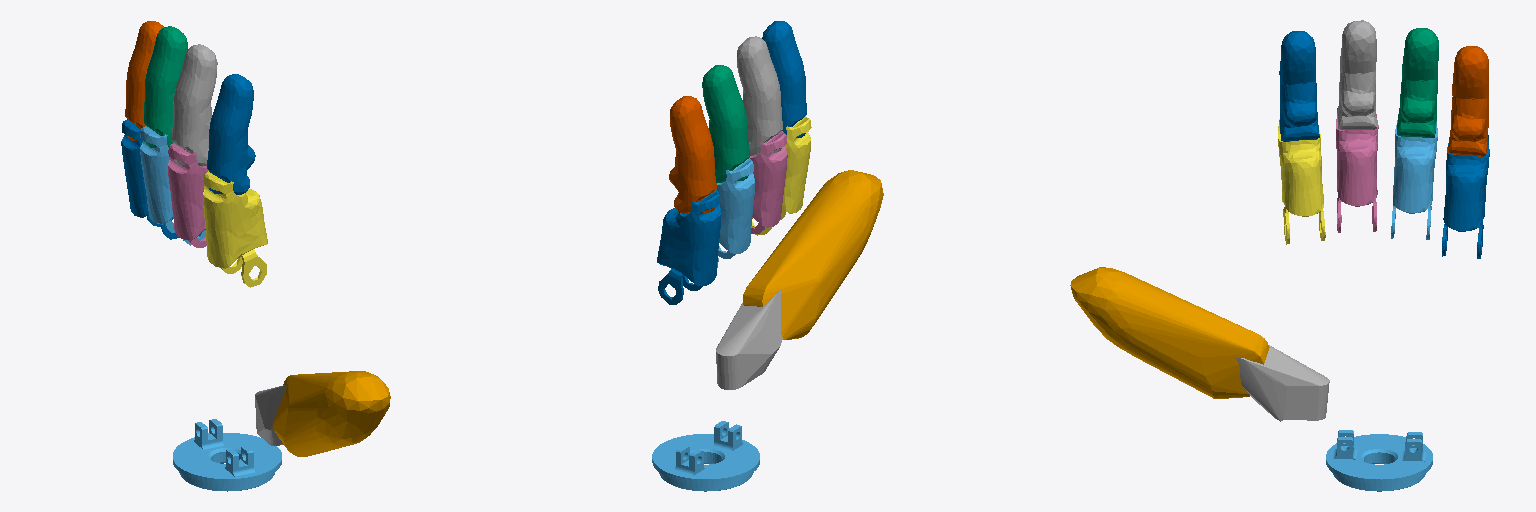
The robot description file, URDF, robot "ability_hand":
<robot name="ability_hand">
  <link name="base_link"/>
  <joint name="base_joint" type="fixed">
    <parent link="base_link"/>
    <child link="base"/>
    <origin xyz="0 0 0" rpy="0 0 -1.57079"/>
  </joint>
  <link name="base">
    <visual name="wrist_mesh">
      <origin rpy="0 0 0" xyz="0 0 0"/>
      <geometry>
        <mesh filename="meshes/visual/wristmesh.obj"/>
      </geometry>
    </visual>
    <collision>
      <origin xyz="0 0 0" rpy="0 0 0"/>
      <geometry>
        <mesh filename="meshes/collision/wristmesh_C.obj"/>
      </geometry>
    </collision>
    <inertial>  <!-- the mass and inertia here are NOT correct -->
      <mass value="0.200"/>
      <inertia ixx="978.26e-6" ixy="87.34e-6" ixz="322.99e-6" iyy="1244.78e-6" iyz="244.74e-6" izz="456.22e-6"/>
      <origin xyz="22.41911e-3 -0.15798201e-3 -0.01319866e-3" rpy="0 0 0"/>
    </inertial>
  </link>
  <joint name="wrist2thumb" type="fixed">
    <parent link="base"/>
    <child link="thumb_base"/>
    <origin xyz="24.0476665e-3 3.78124745e-3 32.32964923e-3" rpy="3.14148426 0.08848813 3.14036612"/>
  </joint>
  <link name="thumb_base">
    <inertial>
      <mass value="0.400"/>
      <inertia ixx="978.26e-6" ixy="87.34e-6" ixz="322.99e-6" iyy="1244.78e-6" iyz="244.74e-6" izz="456.22e-6"/>
      <origin xyz="22.41911e-3 -0.15798201e-3 -0.01319866e-3" rpy="0 0 0"/>
    </inertial>
    <visual name="palm_mesh">
      <origin rpy="0 0 0" xyz="0 0 0"/>
      <geometry>
        <mesh filename="meshes/visual/FB_palm_ref.obj"/>
      </geometry>
    </visual>
    <collision>                                  <!-- thumb_base -->
      <origin xyz="0 0 0" rpy="0 0 0"/>
      <geometry>
        <mesh filename="meshes/collision/FB_palm_ref.obj"/>
      </geometry>
    </collision>
  </link>
  <link name="index_L1">
    <inertial>
      <mass value="0.00635888"/>
      <inertia ixx="0.29766e-4" ixy="-0.06447133e-4" ixz="-0.00423315e-4" iyy="3.6947967e-4" iyz="0.00083028e-4" izz="3.8176336e-4"/>
      <origin xyz="22.41911e-3 -0.15798201e-3 -0.01319866e-3" rpy="0 0 0"/>
    </inertial>
    <visual name="index_mesh_1">
      <origin xyz="38.472723e-3 3.257695e-3 0.000000" rpy="0 0 0.084474"/>
      <geometry>
        <mesh filename="meshes/visual/idx-F1.obj"/>
      </geometry>
    </visual>
    <collision>                                  <!-- index_L1 -->
      <origin xyz="0.036 -0.00175 0" rpy="0 0 0"/>
      <geometry>
        <sphere radius="0.0085"/>
      </geometry>
    </collision>
    <collision>
      <origin xyz="0.019 -0.0045 0" rpy="0 0 0.0845"/>
      <geometry>
        <box size="0.028 0.012 0.016"/>
      </geometry>
    </collision>
    <collision>
      <origin xyz="-0.001 0 0.007" rpy="0 0 0.0845"/>
      <geometry>
        <box size="0.012 0.012 0.002"/>
      </geometry>
    </collision>
    <collision>
      <origin xyz="-0.001 0 -0.007" rpy="0 0 0.0845"/>
      <geometry>
        <box size="0.012 0.012 0.002"/>
      </geometry>
    </collision>
  </link>
  <link name="index_L2">
    <inertial>
      <mass value="0.00645"/>
      <inertia ixx="0.82671e-4" ixy="-1.08876e-4" ixz="-0.00037e-4" iyy="1.98028e-4" iyz="0.00081e-4" izz="2.64638e-4"/>
      <origin rpy="0 0 0" xyz="13.36818e-3 -8.75392e-3 -0.02886e-3"/>
    </inertial>
    <visual name="index_mesh_2">
      <origin rpy="0 0 0" xyz="9.1241e-3 0 0"/>
      <geometry>
        <mesh filename="meshes/visual/idx-F2.obj"/>
      </geometry>
    </visual>
    <collision>                            <!-- index_L2 -->
      <origin xyz="0 0 0" rpy="0 0 0"/>
      <geometry>
        <mesh filename="meshes/collision/idx-F2_C.obj"/>
      </geometry>
    </collision>
    <collision>
      <origin xyz="0.03 -0.016 0" rpy="0 0 0"/>
      <geometry>
        <sphere radius="0.007"/>
      </geometry>
    </collision>
  </link>
  <joint name="index_q1" type="revolute">
    <parent link="thumb_base"/>
    <child link="index_L1"/>
    <origin xyz="-9.49e-3 -13.04e-3 -62.95e-3" rpy="-1.982050 1.284473 -2.090591"/>
    <axis xyz="0 0 1"/>
    <limit lower="0" upper="2.0943951" effort="6.0" velocity="8.0677777442"/>    <!-- angles in rad, efforts in N-m, velocity in rad/s -->
    <dynamics damping="0.001" friction="0.001"/>  <!-- Friction coefficient is not from quantitative measurement -->
  </joint>
  <joint name="index_q2" type="revolute">
    <parent link="index_L1"/>
    <child link="index_L2"/>
    <origin xyz="38.472723e-3 3.257695e-3 0.000000e-3" rpy="0 0 0.084474"/>
    <axis xyz="0 0 1"/>
    <limit lower="0.0" upper="2.6586" effort="6.0" velocity="8.0677777442"/>    <!-- angles in rad, efforts in N-m, velocity in rad/s -->
    <dynamics damping="0.001" friction="0.001"/>  <!-- Friction coefficient is not from quantitative measurement -->
    <mimic joint="index_q1" multiplier="1.05851325" offset="0.72349796"/>
  </joint>
  <link name="index_anchor"/>
  <joint name="idx_anchor" type="fixed">
    <parent link="index_L2"/>
    <child link="index_anchor"/>
    <origin rpy="0 0 0" xyz="31.5541e-3  -10.44e-3 0.14e-3"/>
  </joint>
  <link name="middle_L1">
    <inertial>
      <mass value="0.00635888"/>
      <inertia ixx="0.29766e-4" ixy="-0.06447133e-4" ixz="-0.00423315e-4" iyy="3.6947967e-4" iyz="0.00083028e-4" izz="3.8176336e-4"/>
      <origin xyz="22.41911e-3 -0.15798201e-3 -0.01319866e-3" rpy="0 0 0"/>
    </inertial>
    <visual name="middle_mesh_1">
      <origin xyz="38.472723e-3 3.257695e-3 0.000000" rpy="0 0 0.084474"/>
      <geometry>
        <mesh filename="meshes/visual/idx-F1.obj"/>
      </geometry>
    </visual>
    <collision>                                  <!-- middle_L1 -->
      <origin xyz="0.036 -0.00175 0" rpy="0 0 0"/>
      <geometry>
        <sphere radius="0.0085"/>
      </geometry>
    </collision>
    <collision>
      <origin xyz="0.019 -0.0045 0" rpy="0 0 0.0845"/>
      <geometry>
        <box size="0.028 0.012 0.016"/>
      </geometry>
    </collision>
    <collision>
      <origin xyz="0.018 0.006 0" rpy="0 0 0.0845"/>
      <geometry>
        <box size="0.02 0.01 0.016"/>
      </geometry>
    </collision>
    <collision>
      <origin xyz="-0.001 0 0.007" rpy="0 0 0.0845"/>
      <geometry>
        <box size="0.012 0.012 0.002"/>
      </geometry>
    </collision>
    <collision>
      <origin xyz="-0.001 0 -0.007" rpy="0 0 0.0845"/>
      <geometry>
        <box size="0.012 0.012 0.002"/>
      </geometry>
    </collision>
  </link>
  <link name="middle_L2">
    <inertial>
      <mass value="0.00645"/>
      <inertia ixx="0.82671e-4" ixy="-1.08876e-4" ixz="-0.00037e-4" iyy="1.98028e-4" iyz="0.00081e-4" izz="2.64638e-4"/>
      <origin rpy="0 0 0" xyz="13.36818e-3 -8.75392e-3 -0.02886e-3"/>
    </inertial>
    <visual name="middle_mesh_2">
      <origin rpy="0 0 0" xyz="9.1241e-3 0 0"/>
      <geometry>
        <mesh filename="meshes/visual/idx-F2.obj"/>
      </geometry>
    </visual>
    <collision>                            <!-- middle_L2 -->
      <origin xyz="0 0 0" rpy="0 0 0"/>
      <geometry>
        <mesh filename="meshes/collision/idx-F2_C.obj"/>
      </geometry>
    </collision>
    <collision>
      <origin xyz="0.03 -0.016 0" rpy="0 0 0"/>
      <geometry>
        <sphere radius="0.007"/>
      </geometry>
    </collision>
  </link>
  <joint name="middle_q1" type="revolute">
    <parent link="thumb_base"/>
    <child link="middle_L1"/>
    <origin xyz="9.653191e-3 -15.310271e-3 -67.853949e-3" rpy="-1.860531 1.308458 -1.896217"/>
    <limit lower="0" upper="2.0943951" effort="6.0" velocity="8.0677777442"/>    <!-- angles in rad, efforts in N-m, velocity in rad/s -->
    <dynamics damping="0.001" friction="0.001"/>  <!-- Friction coefficient is not from quantitative measurement -->
    <axis xyz="0 0 1"/>
  </joint>
  <joint name="middle_q2" type="revolute">
    <parent link="middle_L1"/>
    <child link="middle_L2"/>
    <origin xyz="38.472723e-3 3.257695e-3 0.000000" rpy="0 0 0.084474"/>
    <axis xyz="0 0 1"/>
    <limit lower="0.0" upper="2.6586" effort="6.0" velocity="8.0677777442"/>    <!-- angles in rad, efforts in N-m, velocity in rad/s -->
    <dynamics damping="0.001" friction="0.001"/>  <!-- Friction coefficient is not from quantitative measurement -->
    <mimic joint="middle_q1" multiplier="1.05851325" offset="0.72349796"/>
  </joint>
  <link name="middle_anchor"/>
  <joint name="mid_anchor" type="fixed">
    <parent link="middle_L2"/>
    <child link="middle_anchor"/>
    <origin rpy="0 0 0" xyz="31.5541e-3  -10.44e-3 0.14e-3"/>
  </joint>
  <link name="ring_L1">
    <inertial>
      <mass value="0.00635888"/>
      <inertia ixx="0.29766e-4" ixy="-0.06447133e-4" ixz="-0.00423315e-4" iyy="3.6947967e-4" iyz="0.00083028e-4" izz="3.8176336e-4"/>
      <origin xyz="22.41911e-3 -0.15798201e-3 -0.01319866e-3" rpy="0 0 0"/>
    </inertial>
    <visual name="ring_mesh_1">
      <origin xyz="38.472723e-3 3.257695e-3 0.000000" rpy="0 0 0.084474"/>
      <geometry>
        <mesh filename="meshes/visual/idx-F1.obj"/>
      </geometry>
    </visual>
    <collision>                                  <!-- ring_L1 -->
      <origin xyz="0.036 -0.00175 0" rpy="0 0 0"/>
      <geometry>
        <sphere radius="0.0085"/>
      </geometry>
    </collision>
    <collision>
      <origin xyz="0.019 -0.0045 0" rpy="0 0 0.0845"/>
      <geometry>
        <box size="0.028 0.012 0.016"/>
      </geometry>
    </collision>
    <collision>
      <origin xyz="0.018 0.006 0" rpy="0 0 0.0845"/>
      <geometry>
        <box size="0.02 0.01 0.016"/>
      </geometry>
    </collision>
    <collision>
      <origin xyz="-0.001 0 0.007" rpy="0 0 0.0845"/>
      <geometry>
        <box size="0.012 0.012 0.002"/>
      </geometry>
    </collision>
    <collision>
      <origin xyz="-0.001 0 -0.007" rpy="0 0 0.0845"/>
      <geometry>
        <box size="0.012 0.012 0.002"/>
      </geometry>
    </collision>
  </link>
  <link name="ring_L2">
    <inertial>
      <mass value="0.00645"/>
      <inertia ixx="0.82671e-4" ixy="-1.08876e-4" ixz="-0.00037e-4" iyy="1.98028e-4" iyz="0.00081e-4" izz="2.64638e-4"/>
      <origin rpy="0 0 0" xyz="13.36818e-3 -8.75392e-3 -0.02886e-3"/>
    </inertial>
    <visual name="ring_mesh_2">
      <origin rpy="0 0 0" xyz="9.1241e-3 0 0"/>
      <geometry>
        <mesh filename="meshes/visual/idx-F2.obj"/>
      </geometry>
    </visual>
    <collision>                            <!-- ring_L2 -->
      <origin xyz="0 0 0" rpy="0 0 0"/>
      <geometry>
        <mesh filename="meshes/collision/idx-F2_C.obj"/>
      </geometry>
    </collision>
    <collision>
      <origin xyz="0.03 -0.016 0" rpy="0 0 0"/>
      <geometry>
        <sphere radius="0.007"/>
      </geometry>
    </collision>
  </link>
  <joint name="ring_q1" type="revolute">
    <parent link="thumb_base"/>
    <child link="ring_L1"/>
    <origin xyz="29.954260e-3 -14.212492e-3 -67.286105e-3" rpy="-1.716598 1.321452 -1.675862"/>
    <limit lower="0" upper="2.0943951" effort="6.0" velocity="8.0677777442"/>    <!-- angles in rad, efforts in N-m, velocity in rad/s -->
    <dynamics damping="0.001" friction="0.001"/>  <!-- Friction coefficient is not from quantitative measurement -->
    <axis xyz="0 0 1"/>
  </joint>
  <joint name="ring_q2" type="revolute">
    <parent link="ring_L1"/>
    <child link="ring_L2"/>
    <origin xyz="38.472723e-3 3.257695e-3 0.000000" rpy="0 0 0.084474"/>
    <axis xyz="0 0 1"/>
    <limit lower="0.0" upper="2.6586" effort="6.0" velocity="8.0677777442"/>    <!-- angles in rad, efforts in N-m, velocity in rad/s -->
    <dynamics damping="0.001" friction="0.001"/>  <!-- Friction coefficient is not from quantitative measurement -->
    <mimic joint="ring_q1" multiplier="1.05851325" offset="0.72349796"/>
  </joint>
  <link name="ring_anchor"/>
  <joint name="rng_anchor" type="fixed">
    <parent link="ring_L2"/>
    <child link="ring_anchor"/>
    <origin rpy="0 0 0" xyz="31.5541e-3  -10.44e-3 0.14e-3"/>
  </joint>
  <link name="pinky_L1">
    <inertial>
      <mass value="0.00635888"/>
      <inertia ixx="0.29766e-4" ixy="-0.06447133e-4" ixz="-0.00423315e-4" iyy="3.6947967e-4" iyz="0.00083028e-4" izz="3.8176336e-4"/>
      <origin xyz="22.41911e-3 -0.15798201e-3 -0.01319866e-3" rpy="0 0 0"/>
    </inertial>
    <visual name="pinky_mesh_1">
      <origin xyz="38.472723e-3 3.257695e-3 0.000000" rpy="0 0 0.084474"/>
      <geometry>
        <mesh filename="meshes/visual/idx-F1.obj"/>
      </geometry>
    </visual>
    <collision>                                  <!-- pinky_L1 -->
      <origin xyz="0.036 -0.00175 0" rpy="0 0 0"/>
      <geometry>
        <sphere radius="0.0085"/>
      </geometry>
    </collision>
    <collision>
      <origin xyz="0.019 -0.0045 0" rpy="0 0 0.0845"/>
      <geometry>
        <box size="0.028 0.012 0.016"/>
      </geometry>
    </collision>
    <collision>
      <origin xyz="0.018 0.006 0" rpy="0 0 0.0845"/>
      <geometry>
        <box size="0.02 0.01 0.016"/>
      </geometry>
    </collision>
    <collision>
      <origin xyz="-0.001 0 0.007" rpy="0 0 0.0845"/>
      <geometry>
        <box size="0.012 0.012 0.002"/>
      </geometry>
    </collision>
    <collision>
      <origin xyz="-0.001 0 -0.007" rpy="0 0 0.0845"/>
      <geometry>
        <box size="0.012 0.012 0.002"/>
      </geometry>
    </collision>
  </link>
  <link name="pinky_L2">
    <inertial>
      <mass value="0.00645"/>
      <inertia ixx="0.82671e-4" ixy="-1.08876e-4" ixz="-0.00037e-4" iyy="1.98028e-4" iyz="0.00081e-4" izz="2.64638e-4"/>
      <origin rpy="0 0 0" xyz="13.36818e-3 -8.75392e-3 -0.02886e-3"/>
    </inertial>
    <visual name="pinky_mesh_2">
      <origin rpy="0 0 0" xyz="9.1241e-3 0 0"/>
      <geometry>
        <mesh filename="meshes/visual/idx-F2.obj"/>
      </geometry>
    </visual>
    <collision>                            <!-- pinky_L2 -->
      <origin xyz="0 0 0" rpy="0 0 0"/>
      <geometry>
        <mesh filename="meshes/collision/idx-F2_C.obj"/>
      </geometry>
    </collision>
    <collision>
      <origin xyz="0.03 -0.016 0" rpy="0 0 0"/>
      <geometry>
        <sphere radius="0.007"/>
      </geometry>
    </collision>
  </link>
  <joint name="pinky_q1" type="revolute">
    <parent link="thumb_base"/>
    <child link="pinky_L1"/>
    <origin xyz="49.521293e-3 -11.004583e-3 -63.029065e-3" rpy="-1.765110 1.322220 -1.658383"/>
    <limit lower="0" upper="2.0943951" effort="6.0" velocity="8.0677777442"/>    <!-- angles in rad, efforts in N-m, velocity in rad/s -->
    <dynamics damping="0.001" friction="0.001"/>  <!-- Friction coefficient is not from quantitative measurement -->
    <axis xyz="0 0 1"/>
  </joint>
  <joint name="pinky_q2" type="revolute">
    <parent link="pinky_L1"/>
    <child link="pinky_L2"/>
    <origin xyz="38.472723e-3 3.257695e-3 0.000000" rpy="0 0 0.084474"/>
    <limit lower="0.0" upper="2.6586" effort="6.0" velocity="8.0677777442"/>    <!-- angles in rad, efforts in N-m, velocity in rad/s -->
    <dynamics damping="0.001" friction="0.001"/>  <!-- Friction coefficient is not from quantitative measurement -->
    <axis xyz="0 0 1"/>
    <mimic joint="pinky_q1" multiplier="1.05851325" offset="0.72349796"/>
  </joint>
  <link name="pinky_anchor"/>
  <joint name="pnky_anchor" type="fixed">
    <parent link="pinky_L2"/>
    <child link="pinky_anchor"/>
    <origin rpy="0 0 0" xyz="31.5541e-3  -10.44e-3 0.14e-3"/>
  </joint>
  <link name="thumb_L1">
    <inertial>
      <mass value="0.00268342"/>
      <inertia ixx="0.16931e-4" ixy="-0.076214e-4" ixz="-0.16959148e-4" iyy="0.77769934e-4" iyz="0.0156622e-4" izz="0.7249122e-4"/>
      <origin rpy="0 0 0" xyz="14.606e-3 -1.890854e-3 -3.1155356e-3"/>
    </inertial>
    <visual name="thumb_mesh_1">
      <origin xyz="27.8283501e-3 0 -14.7507000e-3" rpy="4.450589592585541 0 0"/>
      <geometry>
        <mesh filename="meshes/visual/thumb-F1.obj"/>
      </geometry>
    </visual>
    <collision>                            <!-- thumb_L1 -->
      <origin xyz="27.8283501e-3 0 -14.7507000e-3" rpy="4.450589592585541 0 0"/>
      <geometry>
        <mesh filename="meshes/collision/thumb-F1_C.obj"/>
      </geometry>
    </collision>
  </link>
  <link name="thumb_L2">
    <inertial>
      <mass value="0.0055"/>
      <inertia ixx="4.4789082e-4" ixy="4.4789082e-4" ixz="-0.62144934e-4" iyy="15.600996e-4" iyz="-0.07466143e-4" izz="17.908554e-4"/>
      <origin rpy="0 0 0" xyz="30.020522e-3 5.59476e-3 -4.1504356e-3"/>
    </inertial>
    <visual name="thumb_mesh_2">
      <origin xyz="65.18669e-3 23.34021e-3 -3.93483e-3" rpy="3.141592 0 0.343830"/>
      <geometry>
        <mesh filename="meshes/visual/thumb-F2.obj"/>
      </geometry>
    </visual>
    <collision>                            <!-- thumb_L2 -->
      <origin xyz="65.18669e-3 23.34021e-3 -3.93483e-3" rpy="3.141592 0 0.343830"/>
      <geometry>
        <mesh filename="meshes/collision/thumb-F2_C.obj"/>
      </geometry>
    </collision>
  </link>
  <joint name="thumb_q1" type="revolute">
    <parent link="thumb_base"/>
    <child link="thumb_L1"/>
    <origin xyz="0 0 0" rpy="0 0 3.330437"/>
    <axis xyz="0 0 1"/>
    <limit lower="-2.0943951" upper="0" effort="1.2" velocity="40.338888721"/>    <!-- angles in rad, efforts in N-m, velocity in rad/s -->
    <dynamics damping="0.001" friction="0.001"/>  <!-- Friction coefficient is not from quantitative measurement -->
  </joint>
  <joint name="thumb_q2" type="revolute">
    <parent link="thumb_L1"/>
    <child link="thumb_L2"/>
    <origin xyz="27.8283501e-3 0 -14.7507000e-3" rpy="4.450589592585541 0 0"/>
    <axis xyz="0 0 1"/>
    <limit lower="0" upper="2.0943951" effort="6.0" velocity="8.0677777442"/>    <!-- angles in rad, efforts in N-m, velocity in rad/s -->
    <dynamics damping="0.001" friction="0.001"/>  <!-- Friction coefficient is not from quantitative measurement -->
  </joint>
  <link name="thumb_anchor"/>
  <joint name="thmb_anchor" type="fixed">
    <parent link="thumb_L2"/>
    <child link="thumb_anchor"/>
    <origin rpy="0 0 0" xyz="52.0012259e-3  28.0086971e-3 -.884835778e-3"/>
  </joint>
</robot>

--- Render facts (derived) ---
The picture shows the robot from 3 angles, left to right: view 1: azimuth 30°, elevation 25°; view 2: azimuth 150°, elevation 25°; view 3: azimuth 270°, elevation 25°; orthographic projection.
Model ability_hand with 18 links and 17 joints (10 revolute, 7 fixed), rooted at base_link, posed all joints at 0.
Visible links, largest first — view 1: thumb_L2, base, index_L1, index_L2, middle_L2, ring_L2, middle_L1, ring_L1, pinky_L2, pinky_L1, thumb_L1; view 2: thumb_L2, base, pinky_L1, thumb_L1, pinky_L2, ring_L2, middle_L2, index_L2, ring_L1, middle_L1, index_L1; view 3: thumb_L2, base, thumb_L1, pinky_L2, index_L2, ring_L2, middle_L2, index_L1, pinky_L1, middle_L1, ring_L1.
Boxes of the visible links, x1=… form: thumb_L2: x1=273, y1=371, x2=390, y2=456; base: x1=173, y1=419, x2=281, y2=491; index_L1: x1=203, y1=170, x2=267, y2=287; index_L2: x1=207, y1=74, x2=255, y2=194; middle_L2: x1=172, y1=44, x2=217, y2=166; ring_L2: x1=144, y1=26, x2=187, y2=147; middle_L1: x1=168, y1=142, x2=207, y2=247; ring_L1: x1=140, y1=126, x2=205, y2=245; pinky_L2: x1=125, y1=21, x2=163, y2=140; pinky_L1: x1=121, y1=119, x2=179, y2=239; thumb_L1: x1=255, y1=385, x2=286, y2=445; thumb_L2: x1=743, y1=170, x2=883, y2=339; base: x1=652, y1=421, x2=759, y2=491; pinky_L1: x1=657, y1=189, x2=720, y2=304; thumb_L1: x1=716, y1=290, x2=782, y2=389; pinky_L2: x1=669, y1=96, x2=716, y2=213; ring_L2: x1=702, y1=65, x2=749, y2=182; middle_L2: x1=737, y1=36, x2=782, y2=155; index_L2: x1=762, y1=21, x2=806, y2=137; ring_L1: x1=717, y1=158, x2=754, y2=267; middle_L1: x1=750, y1=131, x2=787, y2=233; index_L1: x1=752, y1=116, x2=811, y2=235; thumb_L2: x1=1070, y1=267, x2=1269, y2=398; base: x1=1326, y1=430, x2=1432, y2=491; thumb_L1: x1=1236, y1=345, x2=1329, y2=421; pinky_L2: x1=1448, y1=46, x2=1488, y2=156; index_L2: x1=1279, y1=31, x2=1319, y2=141; ring_L2: x1=1397, y1=28, x2=1438, y2=137; middle_L2: x1=1338, y1=20, x2=1376, y2=129; index_L1: x1=1278, y1=119, x2=1325, y2=244; pinky_L1: x1=1442, y1=135, x2=1489, y2=258; middle_L1: x1=1336, y1=108, x2=1378, y2=232; ring_L1: x1=1391, y1=114, x2=1437, y2=239.
Bounding box of the posed robot: 0.0487 × 0.1562 × 0.1778 m (x, y, z).
11 mesh visuals loaded from 6 distinct referenced files (5 OBJ); not drawn: 1 (reference not matched to a file when rendering).